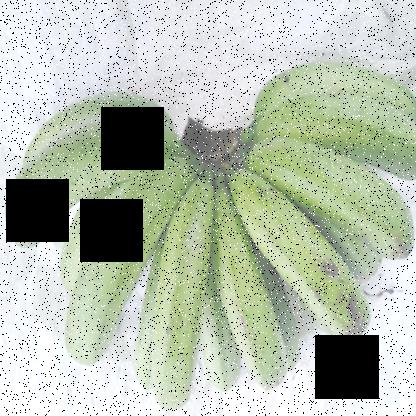rotten: (310, 248, 368, 341)
unripe: (231, 176, 376, 352), (189, 152, 293, 390), (5, 118, 176, 250), (250, 150, 415, 259), (142, 173, 213, 416), (268, 93, 415, 177)
